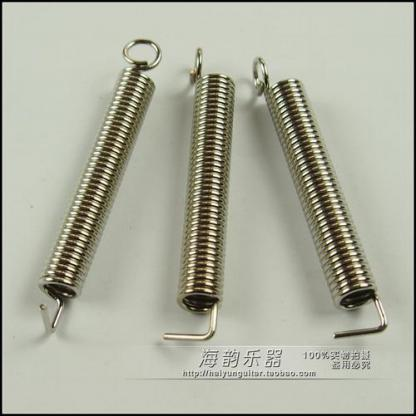FOD: (247, 53, 390, 342), (33, 35, 163, 337), (160, 45, 238, 342)
